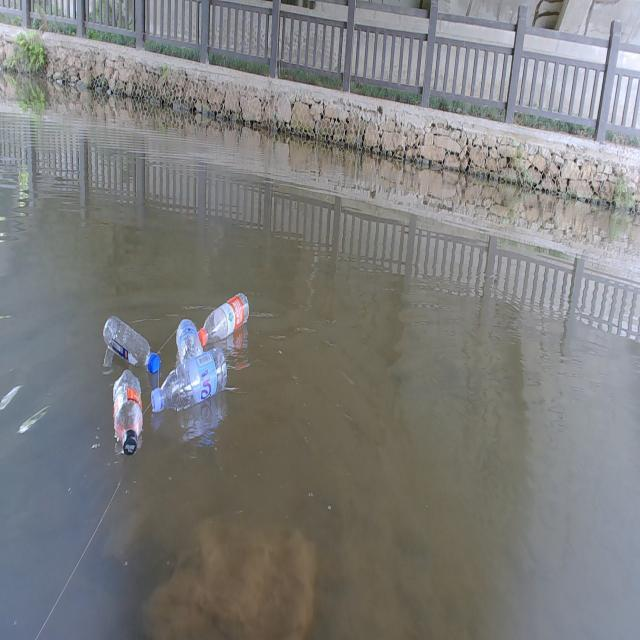bottle: (150, 348, 237, 416), (100, 366, 153, 456), (100, 310, 166, 376), (195, 284, 259, 350), (168, 312, 206, 358)
